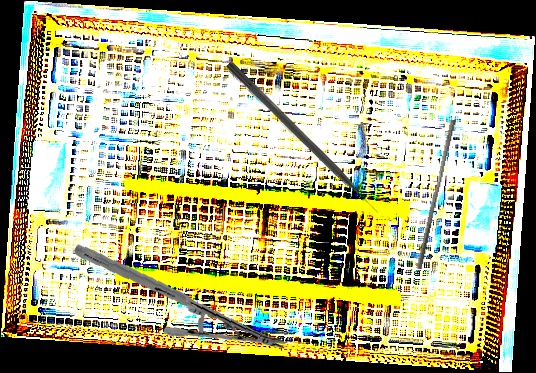Needle Holder: (73, 229, 287, 366)
Pusher: (223, 60, 382, 218), (416, 118, 457, 271)
